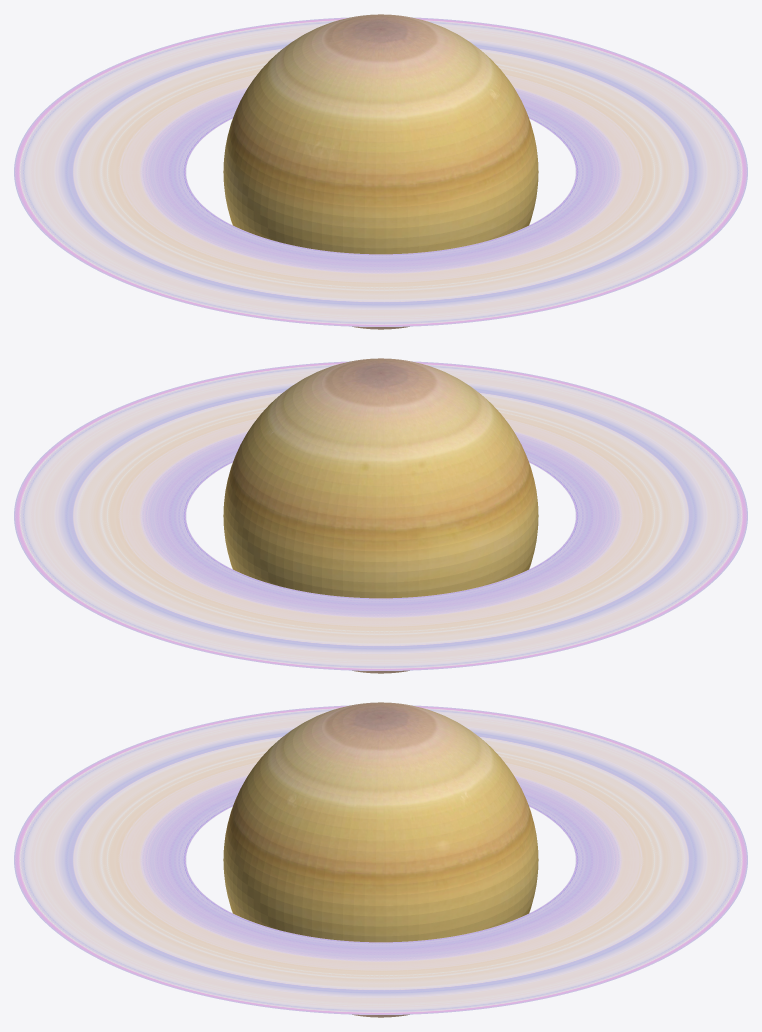
The model's file is saturn_rings.dae.
3 views of the same model, one above another, from view 1: azimuth 30°, elevation 25°; view 2: azimuth 150°, elevation 25°; view 3: azimuth 270°, elevation 25° (orthographic).
Parts seen in each view (by area): view 1: node; view 2: node; view 3: node.
Boxes of the visible parts, x1,y1,x2,y2 form: node: (14,14,747,329); node: (14,358,747,673); node: (14,702,747,1017).
Size of the model in its own units: 280770 by 120536 by 280770.
2 materials, 2 textured.
